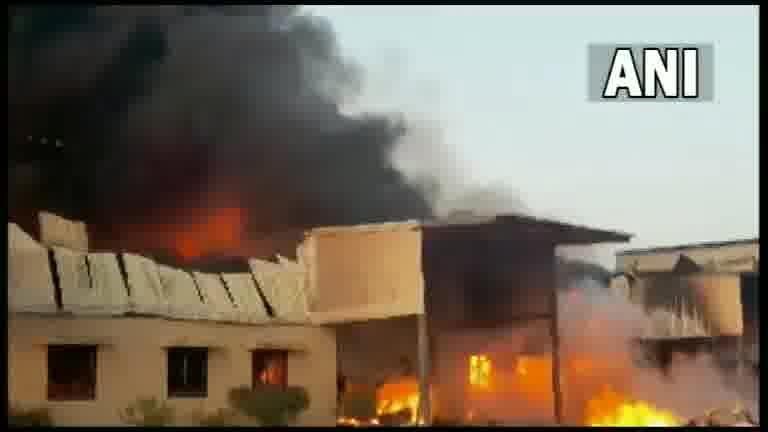fire: (378, 372, 422, 424), (588, 402, 679, 427), (468, 357, 500, 396)
smoke: (14, 11, 391, 203), (558, 289, 671, 398)
